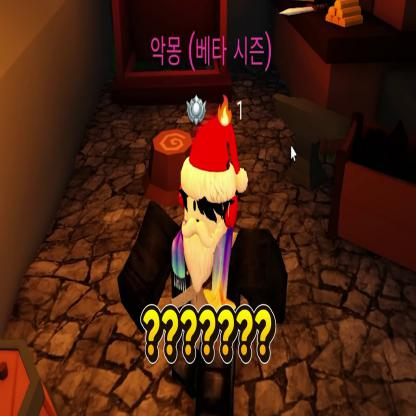Roblox-Avatar: (118, 116, 290, 416)
